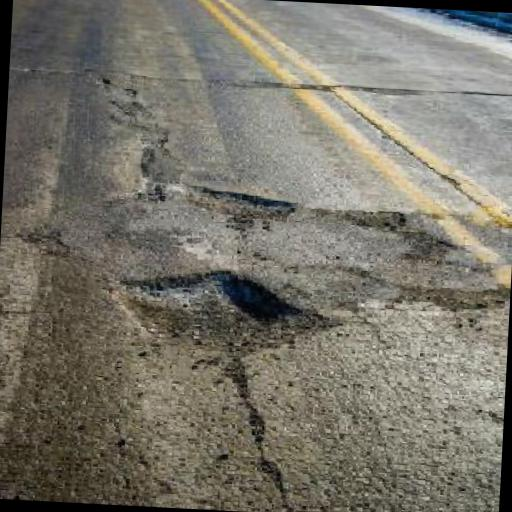pothole: (104, 263, 339, 364), (393, 276, 511, 317), (183, 184, 304, 222), (334, 204, 412, 230)
